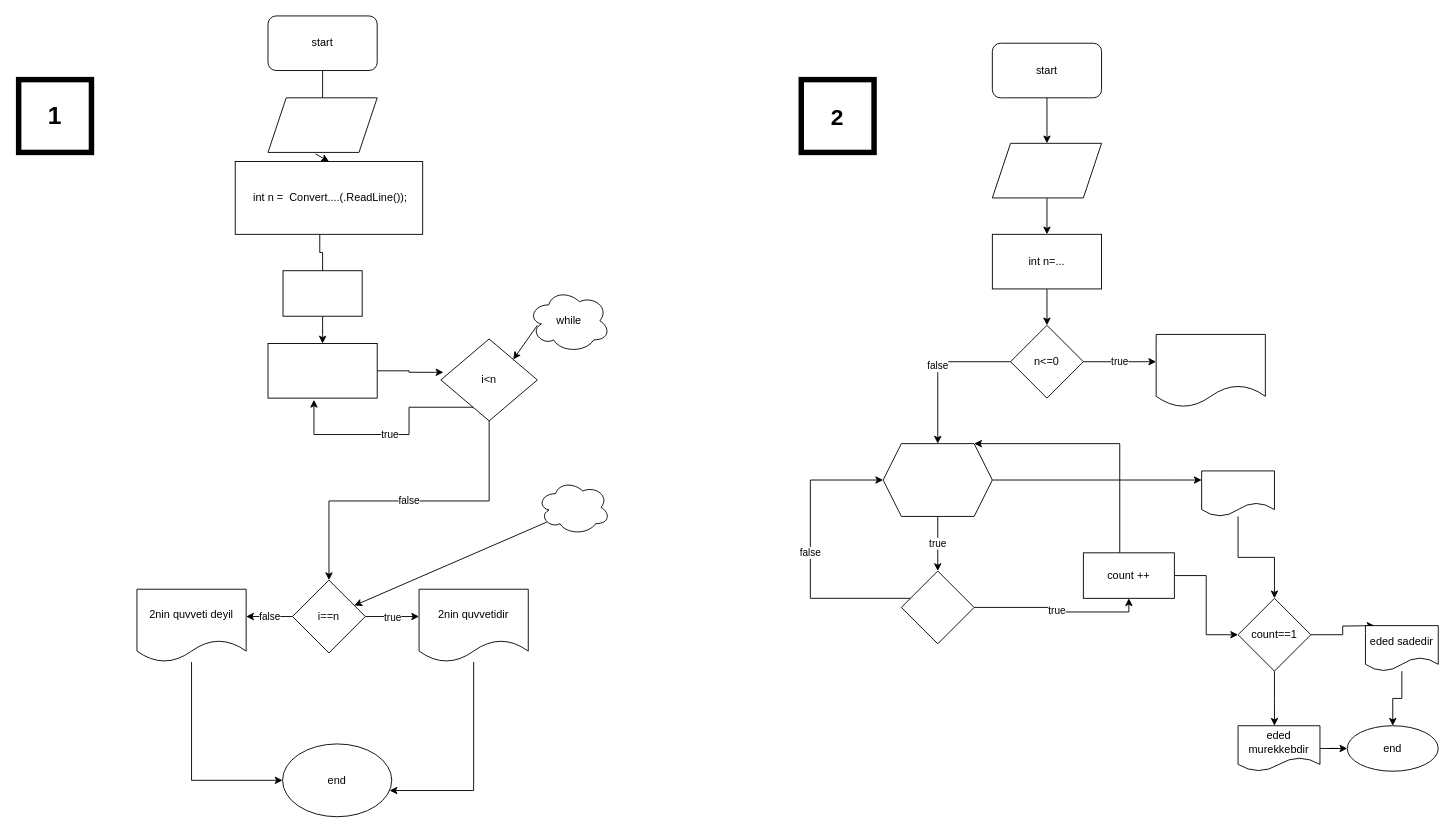
Some shapes in this 1454 by 833 pixel diagram are drawn without their labels. The shapes that lost their labels are listed below. From the top down, each one's centre as x and y in pixels, then its label:
point (322, 124): int i = 1
point (1046, 170): int count = 0
point (322, 293): do
point (322, 370): i*=2
point (1210, 370): ne sadedir ne murekkeb
point (937, 479): int i = 2; i <= n + 1; i++
point (1237, 493): count
point (573, 507): if
point (937, 607): n%i==0
